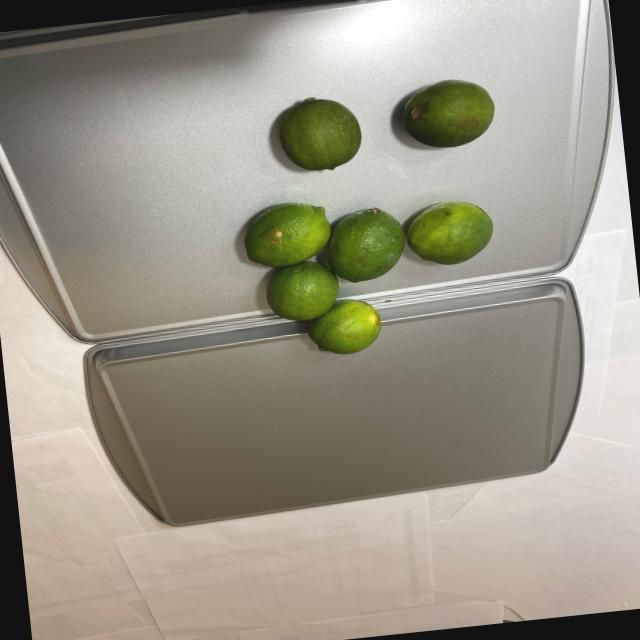lemon: (228, 72, 530, 365)
